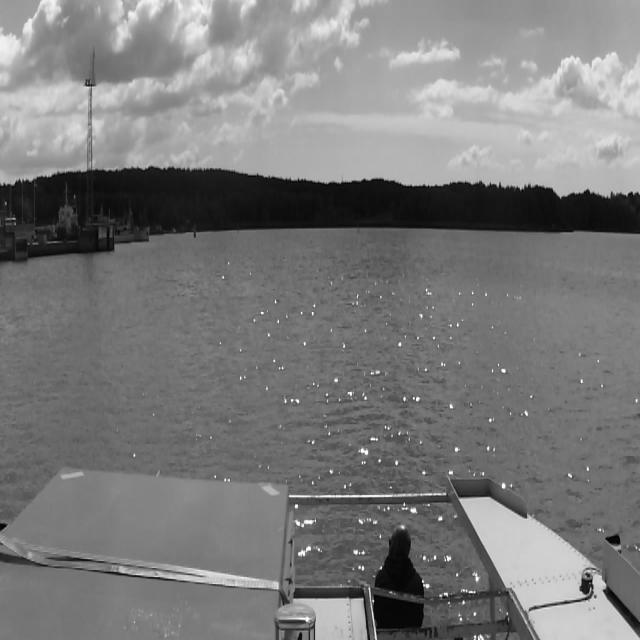buoy: (194, 228, 196, 238)
ship: (115, 218, 150, 244)
